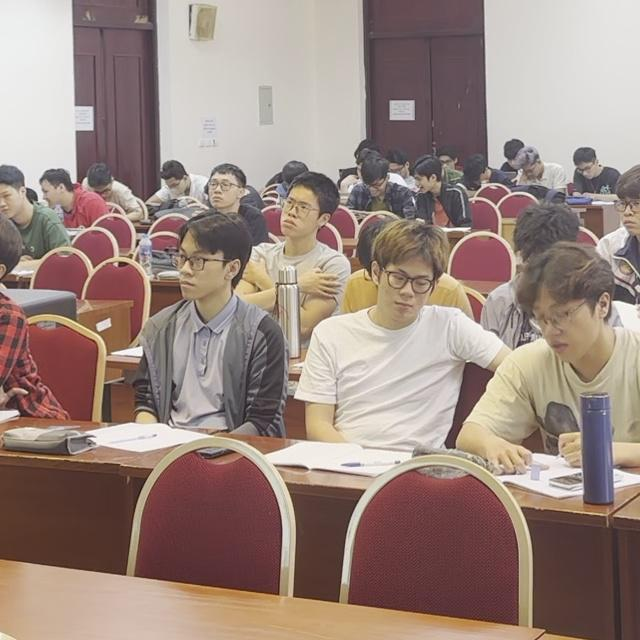Looking away: (538, 305, 579, 363), (386, 268, 425, 315), (43, 186, 60, 205), (165, 178, 184, 194), (413, 176, 430, 193), (580, 166, 596, 182), (525, 166, 541, 180), (368, 182, 383, 194), (98, 188, 113, 200)
Looking forward: (180, 253, 212, 296), (282, 200, 312, 233), (617, 198, 640, 234), (209, 177, 233, 205), (1, 188, 18, 217)
